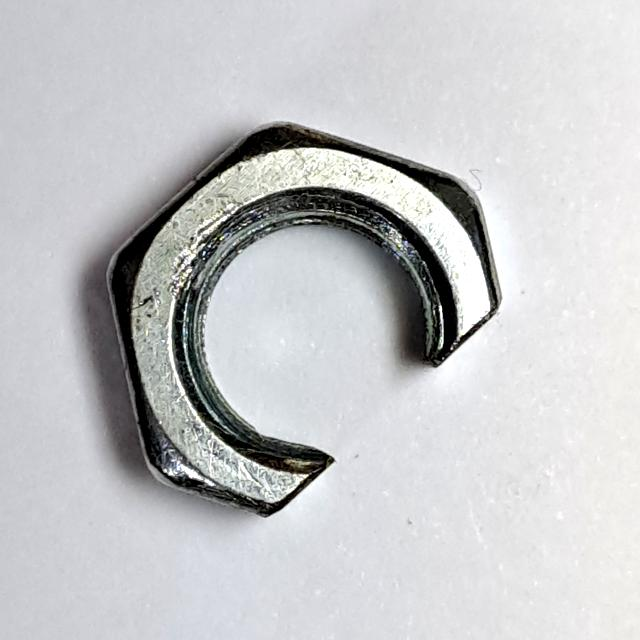Fracture: (92, 109, 518, 531)
